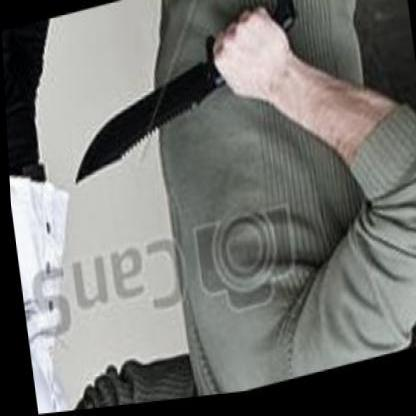knife: (55, 11, 272, 194)
